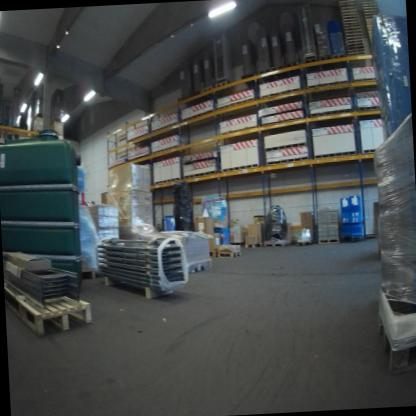pallet: (5, 268, 101, 344), (365, 295, 416, 382), (103, 267, 175, 304), (308, 101, 354, 125), (220, 160, 262, 181), (149, 141, 188, 162), (313, 149, 358, 164), (259, 85, 301, 101), (306, 77, 349, 92), (181, 167, 219, 183), (261, 234, 291, 253), (184, 258, 216, 275), (352, 99, 381, 116), (361, 142, 388, 159), (214, 78, 235, 99), (215, 248, 242, 262), (316, 232, 341, 247), (200, 80, 217, 99), (317, 52, 332, 72), (256, 64, 270, 84), (292, 236, 313, 249), (267, 62, 283, 79), (331, 50, 347, 67), (241, 237, 264, 248), (302, 54, 317, 69), (284, 57, 299, 71)
